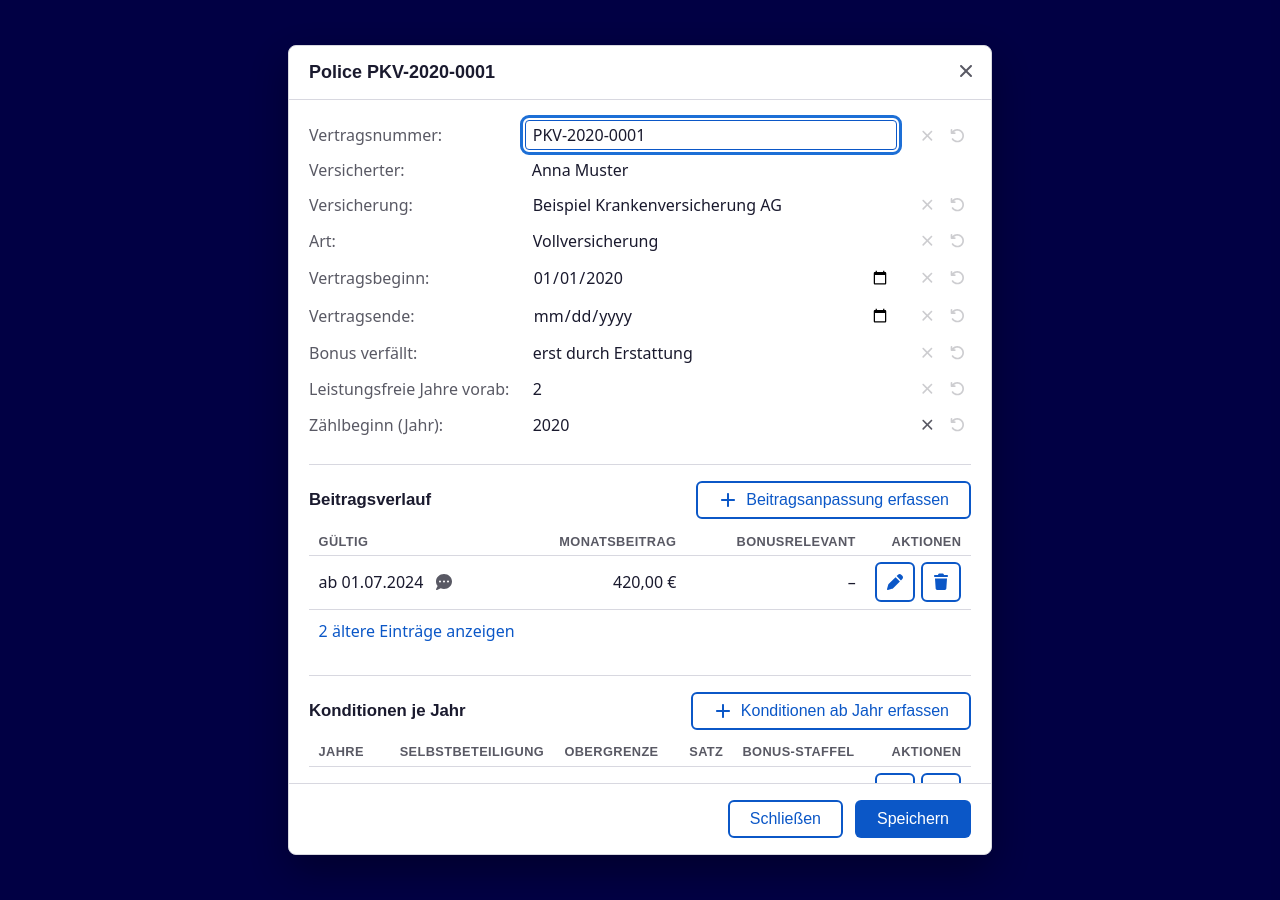
Scenario: ContractDetailDialog › shows only the entry in force, newest first, and folds the rest away
Click the button "2 ältere Einträge anzeigen" at (417, 631), box [319,618,515,644]
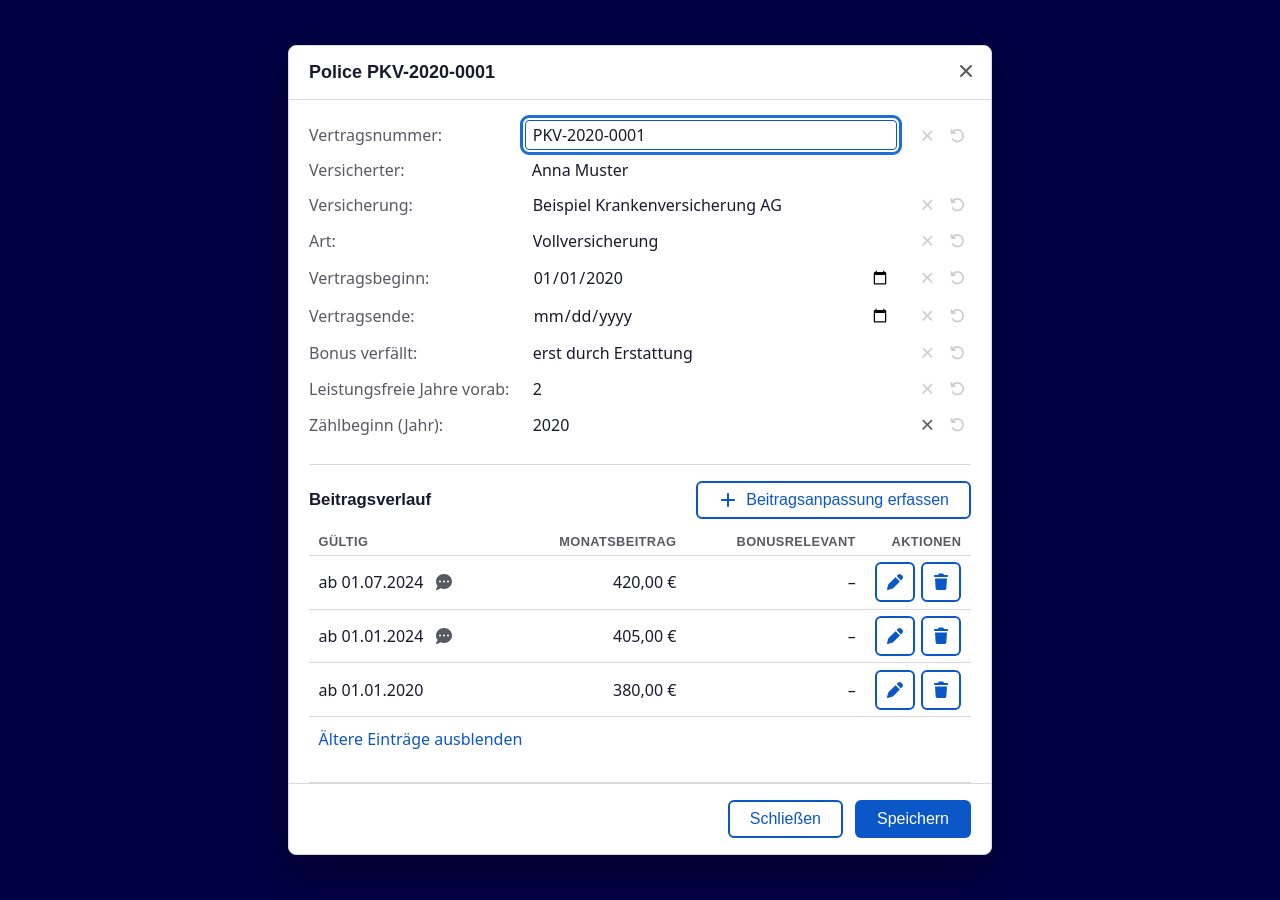
expect the row "ab 01.01.2020 380,00 € –" is shown: met, box [309,663,971,717]
expect the button "Ältere Einträge ausblenden" is shown: met, box [319,725,522,752]
